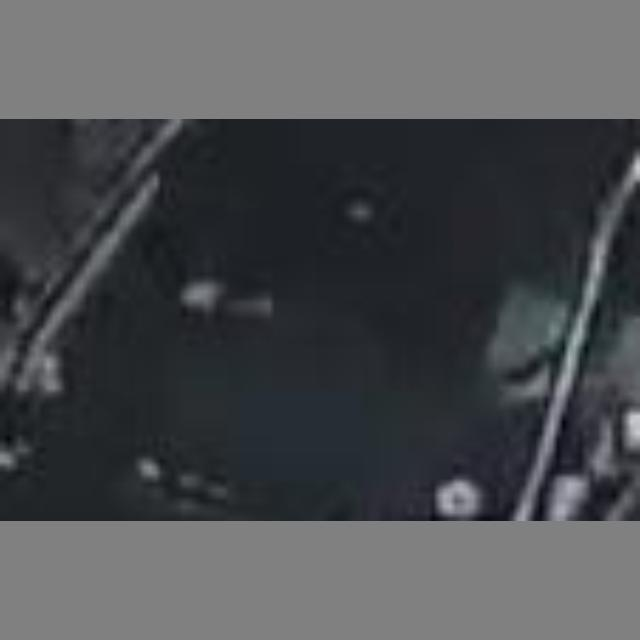pakai: (476, 232, 623, 414)
